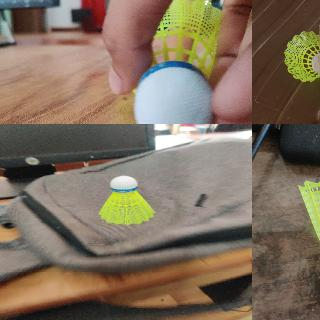shuttlecock: (131, 0, 221, 123), (296, 174, 319, 319), (98, 176, 154, 224), (284, 31, 319, 82)
